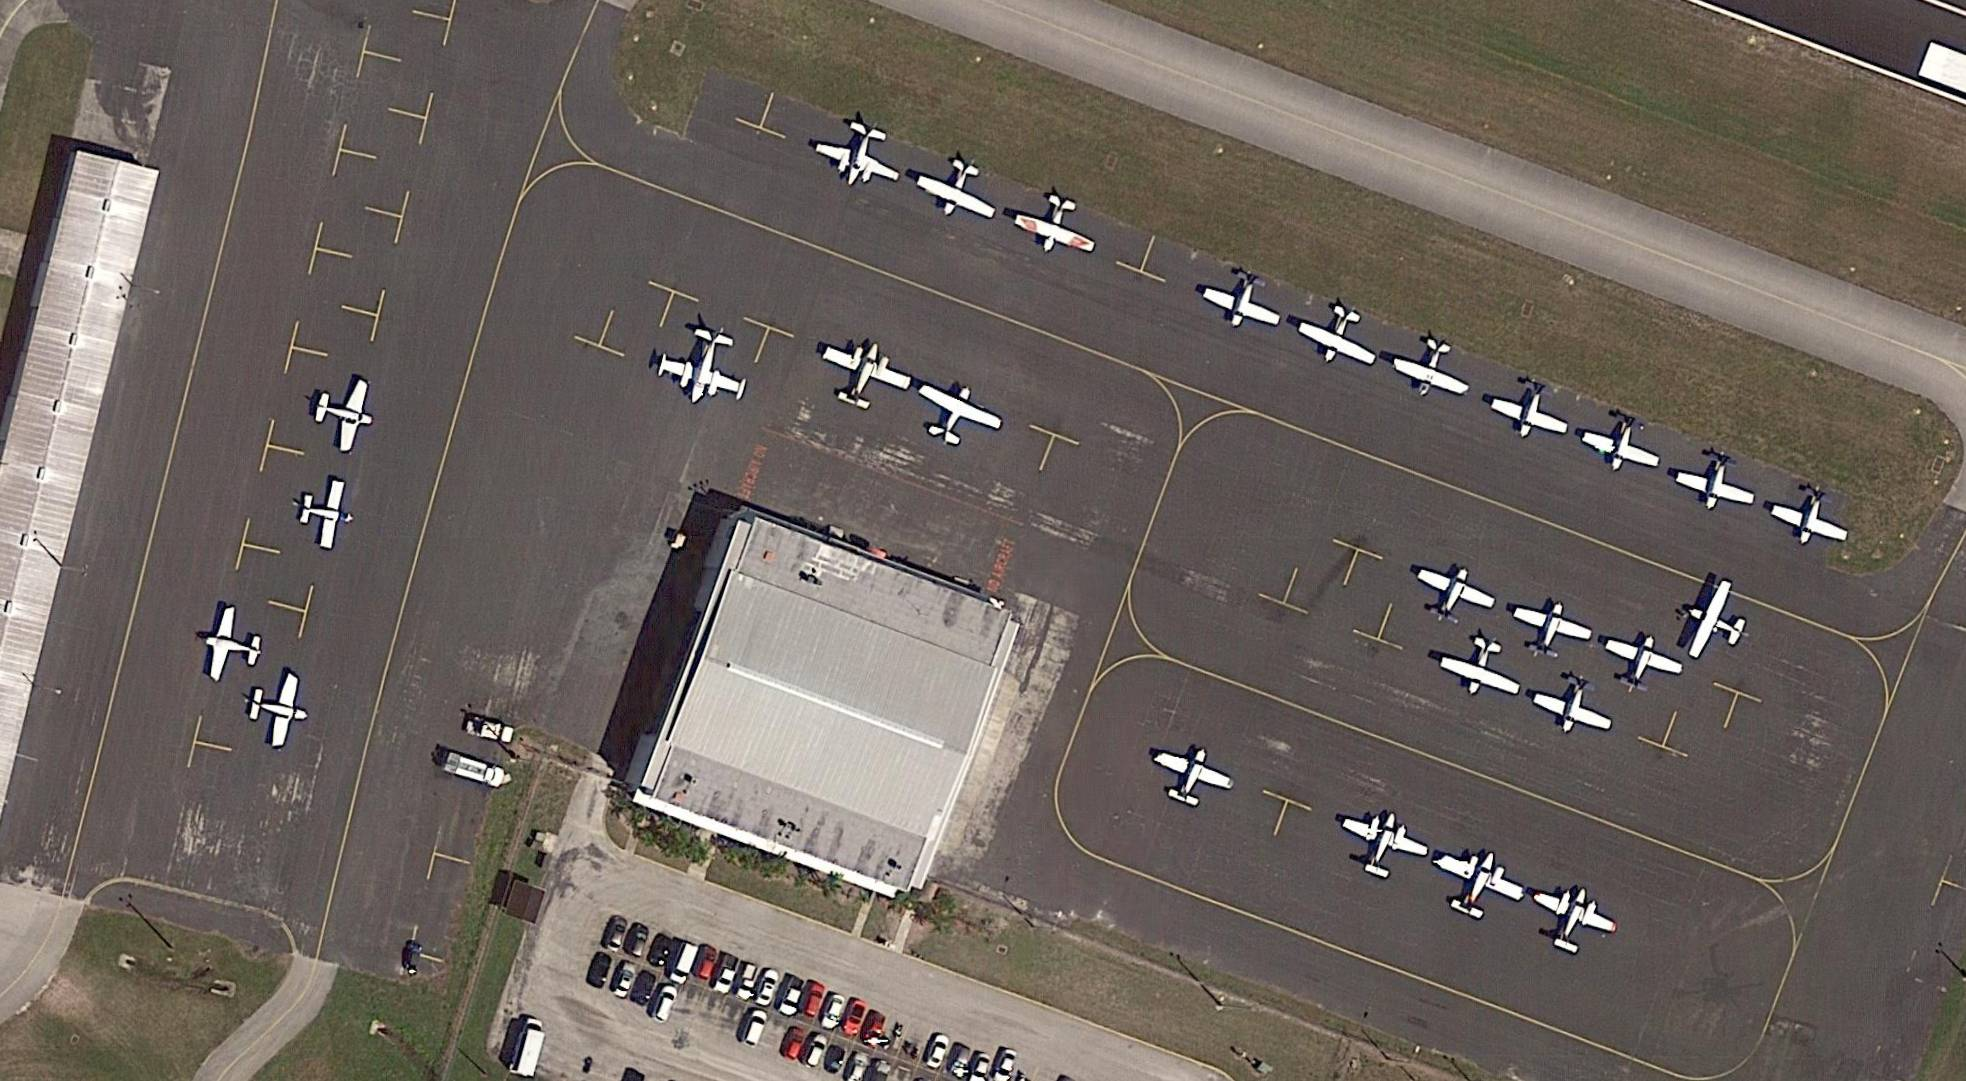large vehicle: (441, 750, 508, 793), (508, 1014, 550, 1080), (465, 712, 516, 748)
plane: (1418, 831, 1537, 933), (807, 326, 920, 422), (650, 320, 761, 415), (902, 365, 1012, 462), (1330, 797, 1436, 889), (904, 145, 1012, 236), (1673, 572, 1764, 678), (1520, 872, 1623, 964), (808, 110, 914, 198), (1143, 731, 1242, 817), (1290, 292, 1390, 377), (1434, 627, 1533, 710), (1008, 184, 1109, 265), (1762, 474, 1860, 558), (1386, 327, 1485, 409), (1406, 552, 1503, 634), (1484, 370, 1581, 449), (1525, 666, 1623, 744), (1668, 443, 1766, 521), (1575, 402, 1671, 481), (1595, 620, 1688, 700), (1195, 261, 1290, 339), (241, 663, 315, 756), (1505, 591, 1597, 666), (197, 600, 272, 688), (307, 370, 379, 458), (292, 475, 359, 554)
small vehicle: (835, 996, 871, 1041), (667, 943, 701, 985), (856, 1008, 889, 1049), (650, 982, 680, 1026), (922, 1033, 953, 1074), (586, 951, 615, 992), (777, 976, 805, 1018), (753, 967, 781, 1008), (630, 971, 659, 1009), (819, 992, 848, 1030), (741, 1008, 769, 1048), (713, 955, 741, 994), (646, 935, 676, 971), (801, 1032, 831, 1069), (693, 945, 721, 984), (733, 964, 761, 1002), (610, 963, 639, 998), (946, 1042, 974, 1078), (800, 984, 827, 1021), (602, 919, 630, 953), (781, 1026, 808, 1061), (993, 1048, 1021, 1080), (969, 1049, 994, 1081), (628, 927, 652, 959)
